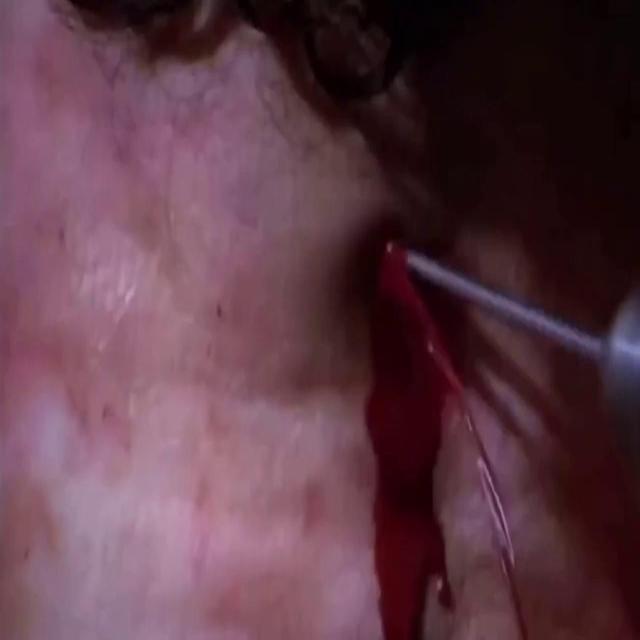flood: (350, 221, 482, 640)
